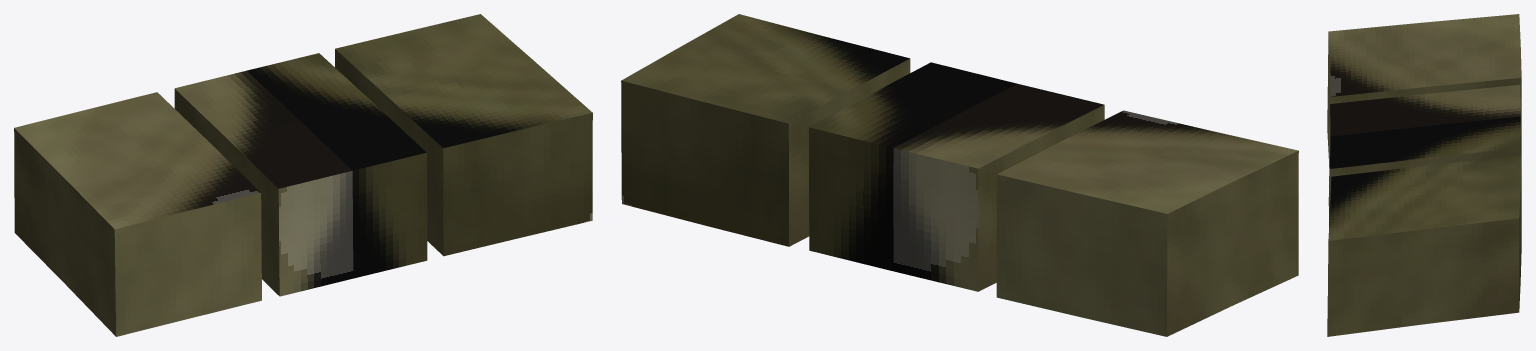
The model's file is pack_ammo.glb.
3 views of the same model, side by side, from view 1: azimuth 30°, elevation 25°; view 2: azimuth 150°, elevation 25°; view 3: azimuth 270°, elevation 25° (orthographic). The views are drawn at different scales.
Visible parts, largest first — view 1: pack_worn_ammo; view 2: pack_worn_ammo; view 3: pack_worn_ammo.
Boxes of the visible parts, box(x1,y1,x2,y2) form: pack_worn_ammo: box(14, 14, 592, 336); pack_worn_ammo: box(621, 14, 1298, 336); pack_worn_ammo: box(1327, 14, 1521, 336).
Size of the model in its own units: 0.3025 by 0.0788 by 0.1187.
Materials: 1 (1 with a texture image).
